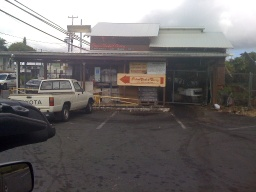car: (8, 77, 98, 121)
